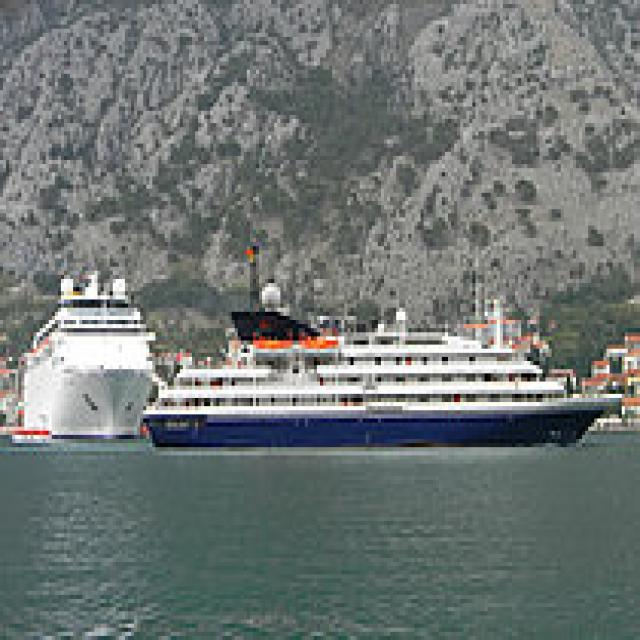Ship: (138, 280, 635, 461), (10, 256, 175, 453)
